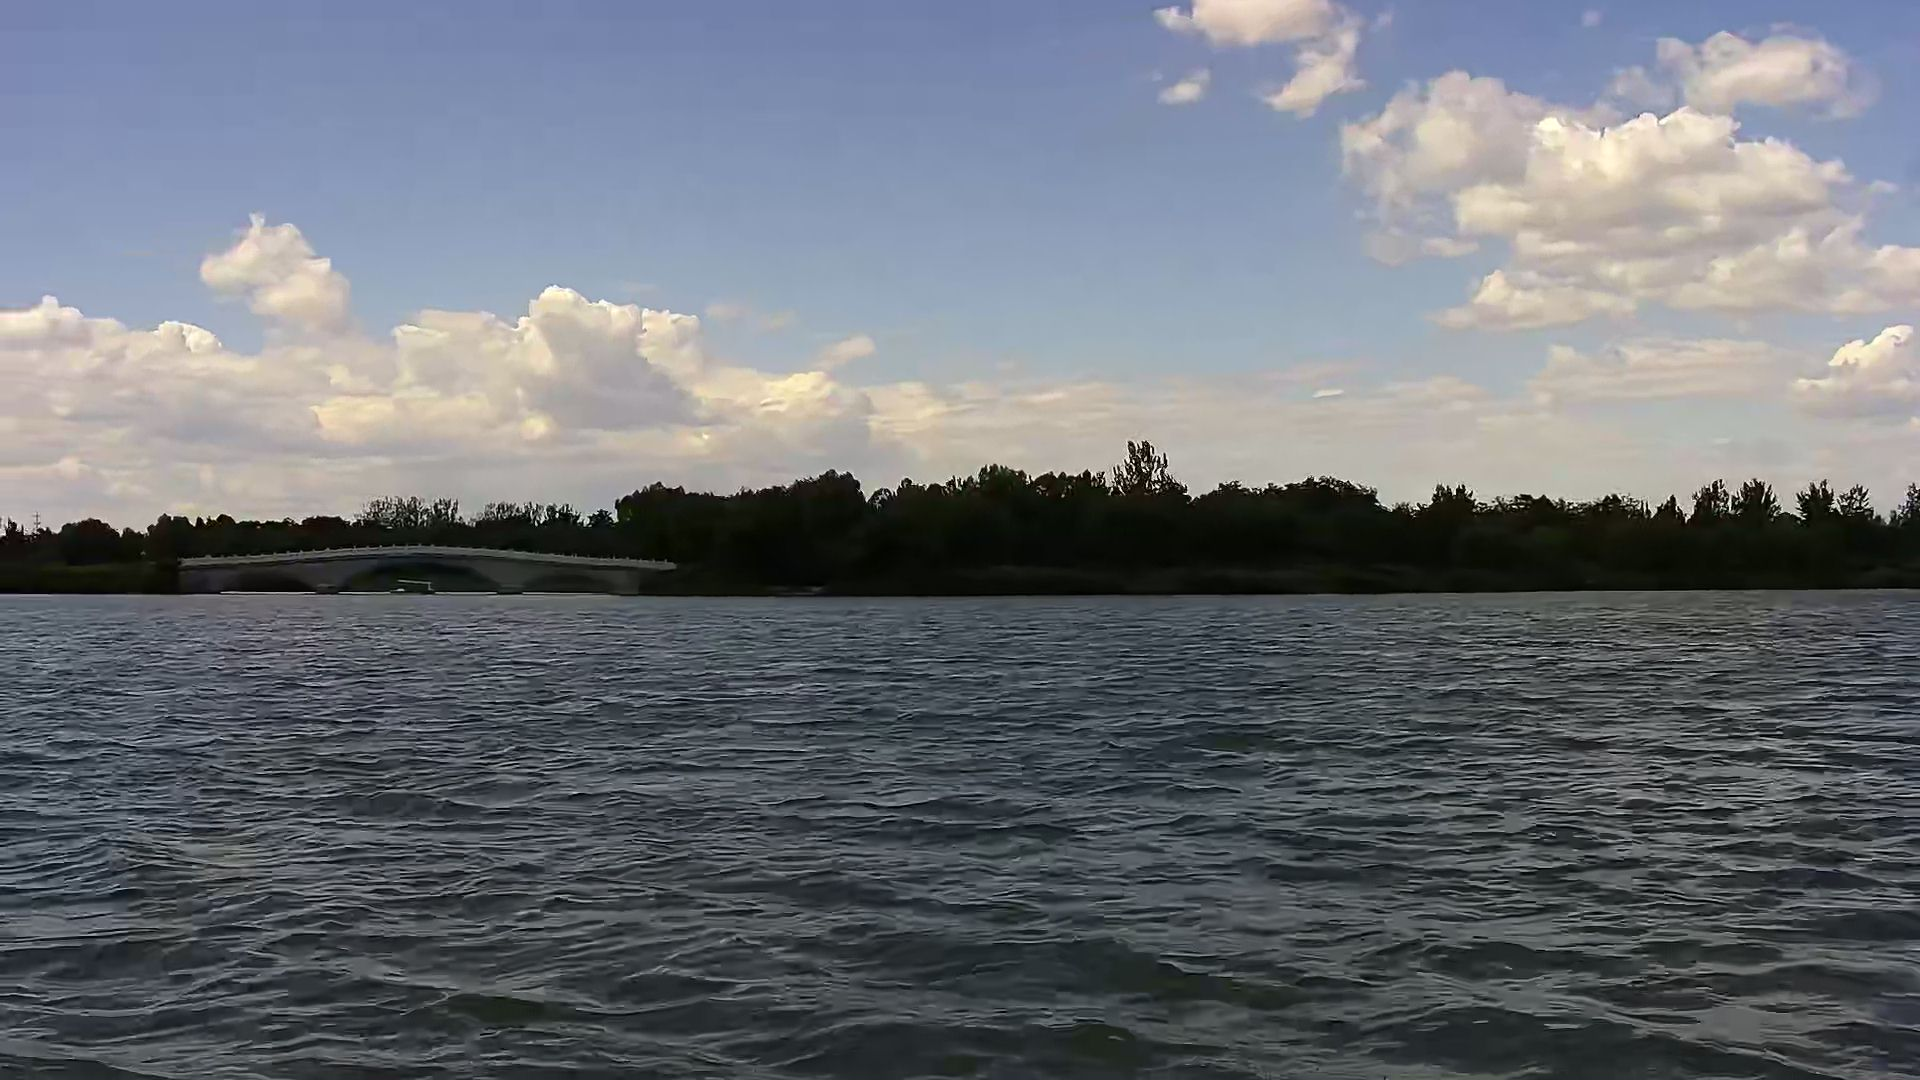boat: (392, 578, 440, 603)
bridge: (170, 539, 674, 599)
